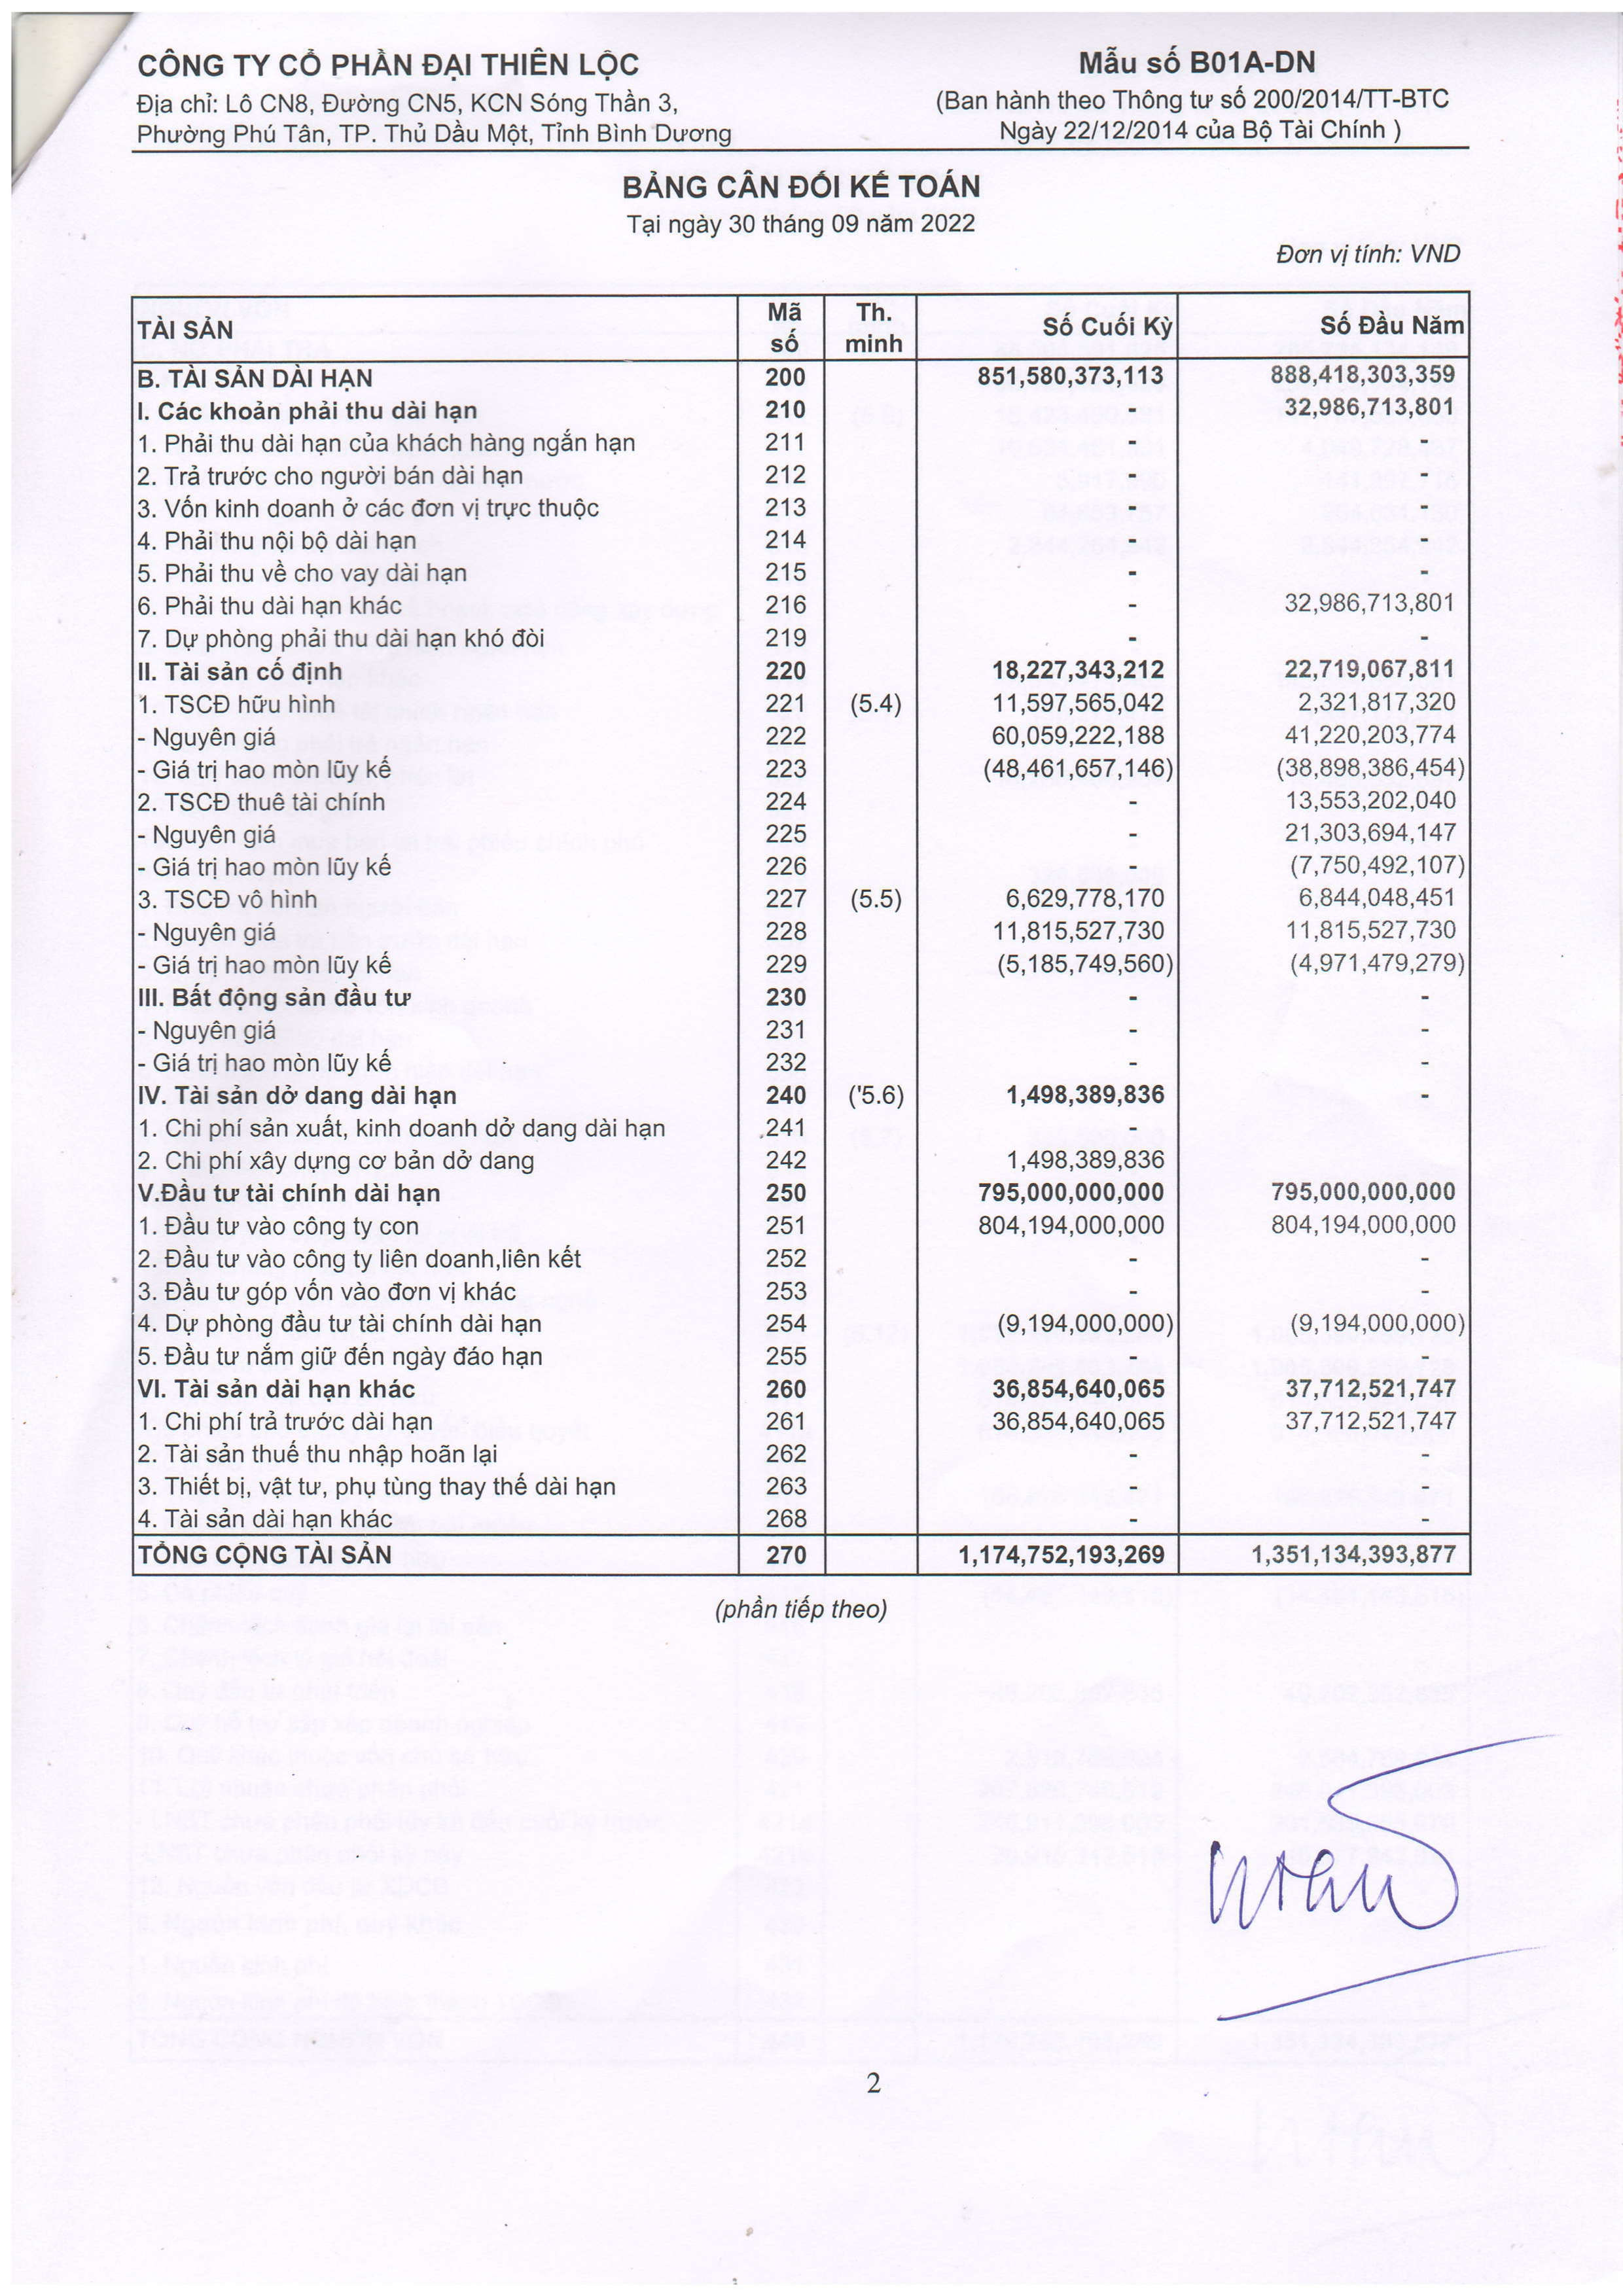table: (130, 290, 1472, 1576)
table column: (130, 290, 704, 1576), (1237, 290, 1472, 1576), (950, 288, 1182, 1576), (843, 290, 905, 1576), (761, 290, 810, 1576)
table column header: (130, 290, 1472, 363)
table row: (130, 302, 1472, 353), (130, 428, 1472, 458), (130, 460, 1472, 490), (130, 493, 1472, 523), (130, 558, 1472, 588), (130, 623, 1472, 653), (130, 688, 1472, 718), (130, 723, 1472, 753), (130, 753, 1472, 783), (130, 820, 1472, 850), (130, 851, 1472, 881), (130, 883, 1472, 913), (130, 918, 1472, 948), (130, 950, 1472, 979), (130, 1048, 1472, 1078), (130, 1081, 1472, 1111), (130, 1111, 1472, 1141), (130, 1276, 1472, 1306), (130, 1341, 1472, 1371), (130, 1373, 1472, 1403), (130, 1406, 1472, 1436), (130, 1438, 1472, 1467), (130, 1471, 1472, 1501), (130, 1503, 1472, 1532), (130, 1539, 1472, 1569), (130, 363, 1472, 391), (130, 397, 1472, 425), (130, 527, 1472, 555), (130, 592, 1472, 620), (130, 657, 1472, 685), (130, 786, 1472, 814), (130, 983, 1472, 1011), (130, 1016, 1472, 1044), (130, 1146, 1472, 1174), (130, 1178, 1472, 1206), (130, 1211, 1472, 1239), (130, 1245, 1472, 1273), (130, 1309, 1472, 1338)
